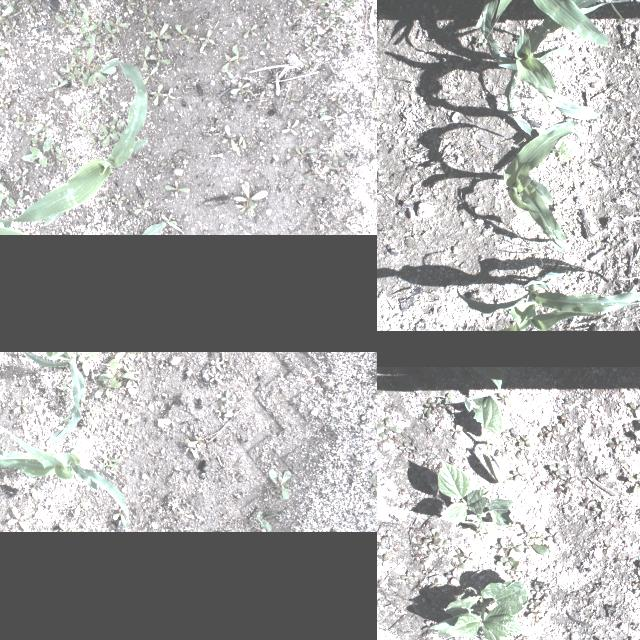crop: (0, 59, 146, 228), (0, 402, 128, 530), (455, 259, 640, 330), (498, 22, 604, 142), (472, 0, 633, 66), (502, 121, 586, 241), (0, 352, 83, 444), (429, 579, 529, 640), (437, 458, 513, 534), (463, 394, 502, 454), (0, 193, 28, 235), (480, 368, 506, 390), (124, 223, 166, 235)
weed: (77, 47, 117, 87), (232, 182, 268, 218), (513, 524, 549, 556), (97, 358, 133, 388), (538, 137, 580, 161), (20, 138, 52, 166), (604, 0, 640, 24), (322, 156, 352, 180), (247, 512, 281, 532), (496, 537, 518, 567), (377, 417, 402, 443), (268, 469, 290, 498), (150, 22, 170, 52), (77, 16, 97, 46), (97, 124, 121, 148), (162, 180, 190, 200), (302, 163, 328, 184), (95, 378, 121, 398), (220, 124, 238, 152), (78, 352, 98, 377), (293, 146, 315, 168), (173, 22, 195, 44), (8, 508, 30, 530), (545, 236, 573, 252), (218, 54, 240, 74), (24, 122, 44, 144), (524, 246, 546, 266), (318, 112, 348, 126), (0, 183, 16, 209), (46, 79, 66, 99), (140, 66, 158, 88), (102, 22, 120, 44), (54, 13, 76, 31), (0, 5, 14, 33), (280, 118, 300, 136), (258, 31, 278, 49), (230, 45, 248, 65), (197, 28, 215, 48), (132, 198, 152, 216), (229, 80, 251, 96), (160, 86, 177, 106), (149, 83, 163, 107), (11, 166, 29, 184), (423, 527, 441, 545), (302, 36, 322, 52), (158, 212, 178, 228), (537, 424, 557, 440), (458, 552, 474, 572), (104, 16, 130, 28), (149, 54, 171, 68), (140, 4, 154, 26), (13, 116, 35, 130), (14, 180, 31, 198), (315, 106, 333, 122), (241, 23, 259, 39), (79, 122, 95, 140), (106, 111, 122, 129), (10, 106, 26, 124), (58, 64, 76, 80), (606, 436, 624, 452), (527, 604, 543, 622), (349, 223, 375, 234), (52, 145, 66, 165), (34, 118, 54, 132), (556, 473, 576, 487), (528, 584, 548, 598), (366, 143, 377, 168), (2, 19, 18, 36), (627, 473, 640, 493), (338, 176, 354, 192), (110, 192, 126, 208), (442, 568, 458, 584), (420, 620, 436, 636), (334, 92, 348, 110), (112, 508, 126, 526), (423, 397, 435, 418), (546, 527, 560, 545), (434, 538, 448, 556), (185, 439, 198, 458), (140, 46, 150, 70), (548, 463, 568, 475), (592, 501, 604, 521), (57, 149, 73, 163), (71, 40, 87, 54), (514, 135, 530, 149), (511, 465, 525, 481), (558, 411, 572, 427), (580, 498, 596, 512), (428, 577, 442, 593), (380, 530, 396, 544), (336, 0, 356, 11), (158, 158, 176, 170), (398, 571, 416, 583), (363, 89, 377, 104), (284, 92, 300, 105), (22, 0, 38, 13), (628, 400, 640, 417), (519, 90, 539, 100), (32, 492, 42, 512), (451, 420, 461, 440), (397, 441, 415, 452), (104, 122, 118, 136), (66, 57, 80, 71), (74, 7, 88, 21), (303, 0, 327, 8), (72, 68, 88, 80), (518, 432, 530, 448), (428, 403, 444, 415), (377, 554, 393, 566), (318, 11, 337, 21), (496, 392, 509, 406), (236, 132, 246, 150), (234, 136, 243, 156), (326, 140, 340, 152), (306, 124, 320, 136), (322, 20, 336, 32), (88, 34, 102, 46), (67, 47, 81, 59), (370, 476, 377, 500), (114, 352, 135, 360), (210, 358, 222, 372), (14, 397, 26, 411), (0, 95, 11, 110), (102, 453, 120, 462), (346, 40, 362, 50), (136, 26, 152, 36), (119, 0, 135, 10), (222, 68, 235, 80), (3, 210, 15, 223), (188, 437, 202, 448), (286, 36, 298, 48), (99, 51, 113, 61), (93, 18, 103, 32), (94, 195, 108, 205), (438, 392, 452, 402), (505, 566, 519, 576), (453, 548, 463, 562), (543, 583, 557, 593), (371, 110, 377, 132), (6, 1, 18, 12), (539, 35, 561, 41), (326, 171, 336, 183), (229, 4, 239, 16), (141, 0, 171, 4), (99, 94, 111, 104), (88, 106, 98, 118), (44, 160, 56, 170), (478, 34, 488, 46), (208, 372, 220, 382), (538, 480, 550, 490), (377, 370, 382, 394), (426, 542, 436, 554), (377, 539, 389, 549), (64, 0, 77, 9), (283, 146, 291, 160), (92, 85, 106, 93), (98, 462, 116, 468), (346, 29, 356, 39), (233, 40, 243, 50), (74, 112, 84, 122), (536, 596, 546, 606), (388, 541, 398, 551), (358, 201, 366, 213), (213, 130, 225, 138), (88, 138, 96, 150), (0, 56, 5, 73), (288, 0, 302, 6), (347, 38, 357, 46), (161, 66, 171, 74), (95, 104, 101, 116), (66, 10, 78, 16), (136, 152, 148, 158), (388, 74, 406, 78), (634, 587, 640, 598), (148, 95, 156, 103), (553, 204, 561, 212), (633, 37, 640, 46), (366, 103, 376, 109), (80, 114, 90, 120), (212, 125, 220, 132), (227, 0, 238, 5), (152, 34, 156, 46), (40, 131, 46, 139), (594, 242, 600, 248), (422, 231, 428, 237), (539, 158, 545, 164), (0, 119, 3, 130), (198, 50, 206, 54), (611, 238, 615, 246), (411, 196, 417, 200)
